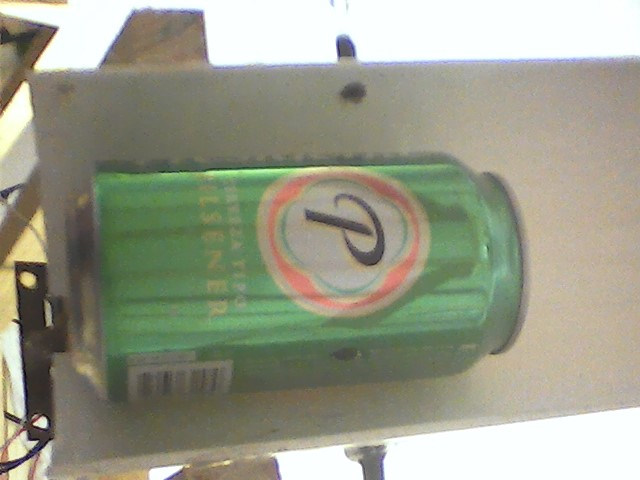lata: (52, 140, 540, 413)
